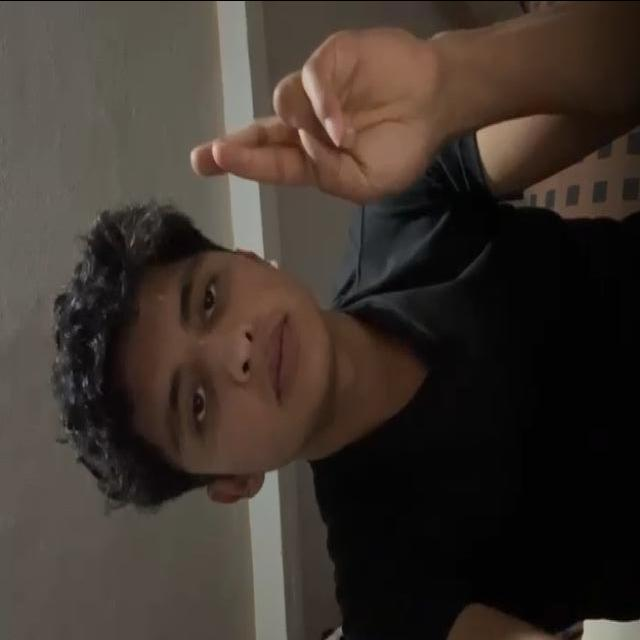R: (171, 12, 442, 220)
